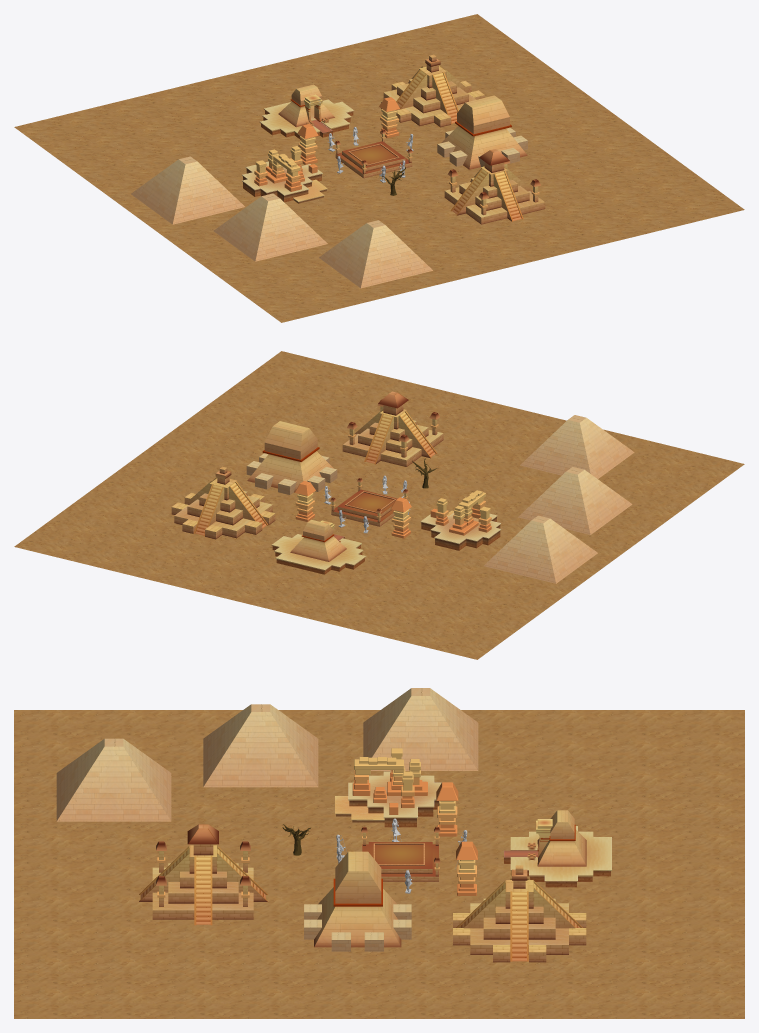
File: ezypt.fbx
The picture shows the model from 3 angles, top to bottom: view 1: azimuth 30°, elevation 25°; view 2: azimuth 150°, elevation 25°; view 3: azimuth 270°, elevation 25°; orthographic projection. The views are drawn at different scales.
Parts seen in each view (by area): view 1: polySurface3496, polySurface3536, polySurface3467, polySurface3468, polySurface255, polySurface375, polySurface296, polySurface303, polySurface3521, polySurface3497, polySurface409, polySurface3498; view 2: polySurface3496, polySurface3536, polySurface375, polySurface255, polySurface3467, polySurface3468, polySurface303, polySurface296, polySurface3521, polySurface409, polySurface3497; view 3: polySurface3496, polySurface3536, polySurface375, polySurface3467, polySurface3468, polySurface255, polySurface296, polySurface303, polySurface3521, polySurface409, polySurface3497, polySurface3498.
Part boxes in pixels (x1,y1,x2,y2): polySurface3496: (14,14,744,322); polySurface3536: (437,95,545,224); polySurface3467: (213,193,327,261); polySurface3468: (319,220,432,288); polySurface255: (131,156,244,224); polySurface375: (381,54,484,127); polySurface296: (242,146,327,203); polySurface303: (259,84,354,139); polySurface3521: (342,141,405,171); polySurface3497: (379,97,399,138); polySurface409: (297,124,318,164); polySurface3498: (335,143,412,178); polySurface3496: (14,351,744,659); polySurface3536: (246,391,443,494); polySurface375: (171,466,275,539); polySurface255: (484,515,597,583); polySurface3467: (518,467,632,534); polySurface3468: (520,415,634,478); polySurface303: (271,519,366,574); polySurface296: (420,490,501,550); polySurface3521: (337,489,397,519); polySurface409: (391,497,411,538); polySurface3497: (295,481,315,521); polySurface3496: (14,710,744,1018); polySurface3536: (139,824,411,951); polySurface375: (453,865,586,962); polySurface3467: (203,704,318,787); polySurface3468: (56,738,171,821); polySurface255: (363,688,478,770); polySurface296: (335,748,441,827); polySurface303: (504,810,611,887); polySurface3521: (368,842,432,873); polySurface409: (436,782,458,836); polySurface3497: (456,841,477,895); polySurface3498: (362,844,438,881).
Size of the model in its own units: 676 by 79.57 by 676.
